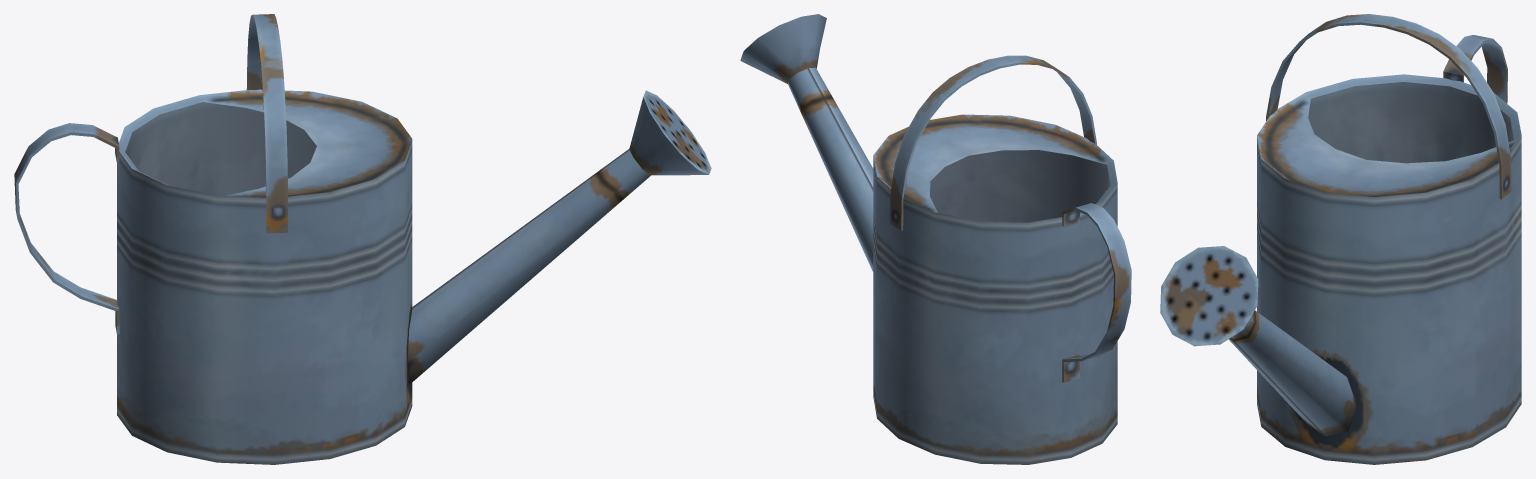
Rendered from wateringCan.gltf.
The picture shows the model from 3 angles, left to right: view 1: azimuth 30°, elevation 25°; view 2: azimuth 150°, elevation 25°; view 3: azimuth 270°, elevation 25°; orthographic projection. The views are drawn at different scales.
Visible parts, largest first — view 1: wateringCan; view 2: wateringCan; view 3: wateringCan.
Part boxes in pixels (x1=…): wateringCan: x1=14, y1=14, x2=711, y2=464; wateringCan: x1=740, y1=14, x2=1131, y2=464; wateringCan: x1=1160, y1=14, x2=1521, y2=464.
Size of the model in its own units: 0.6744 by 0.4436 by 0.3789.
Materials: 1 (1 with a texture image).
